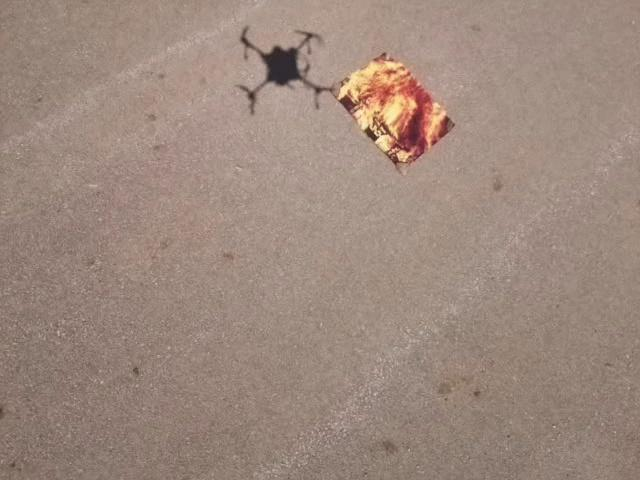fire-poster: (331, 50, 456, 176)
